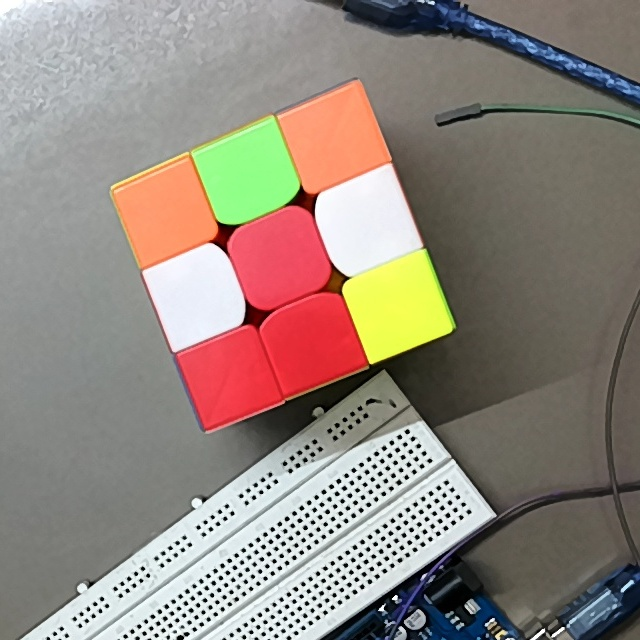tile: (334, 185, 401, 260), (304, 105, 369, 171), (248, 226, 313, 292), (279, 309, 342, 376), (219, 140, 280, 207), (168, 265, 232, 328), (372, 273, 432, 338), (203, 345, 262, 408), (138, 182, 199, 242)
